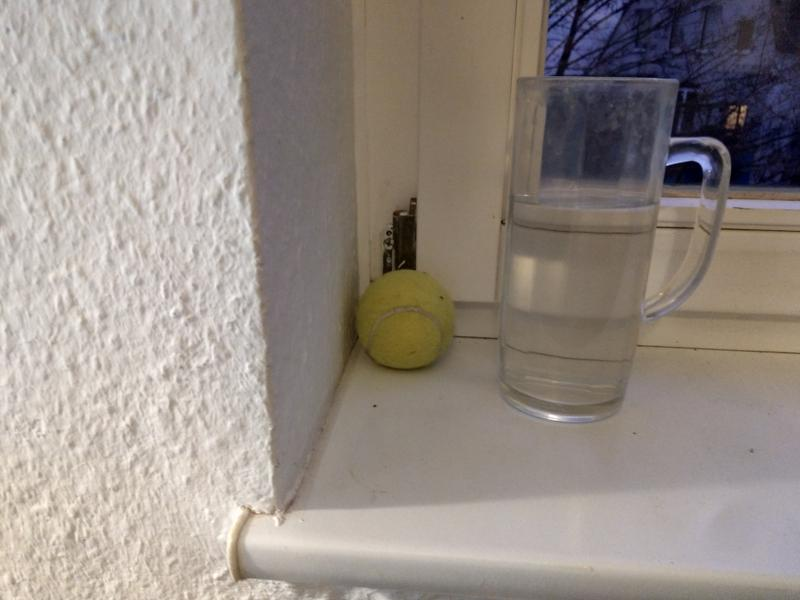Tennisball: (353, 266, 457, 372)
